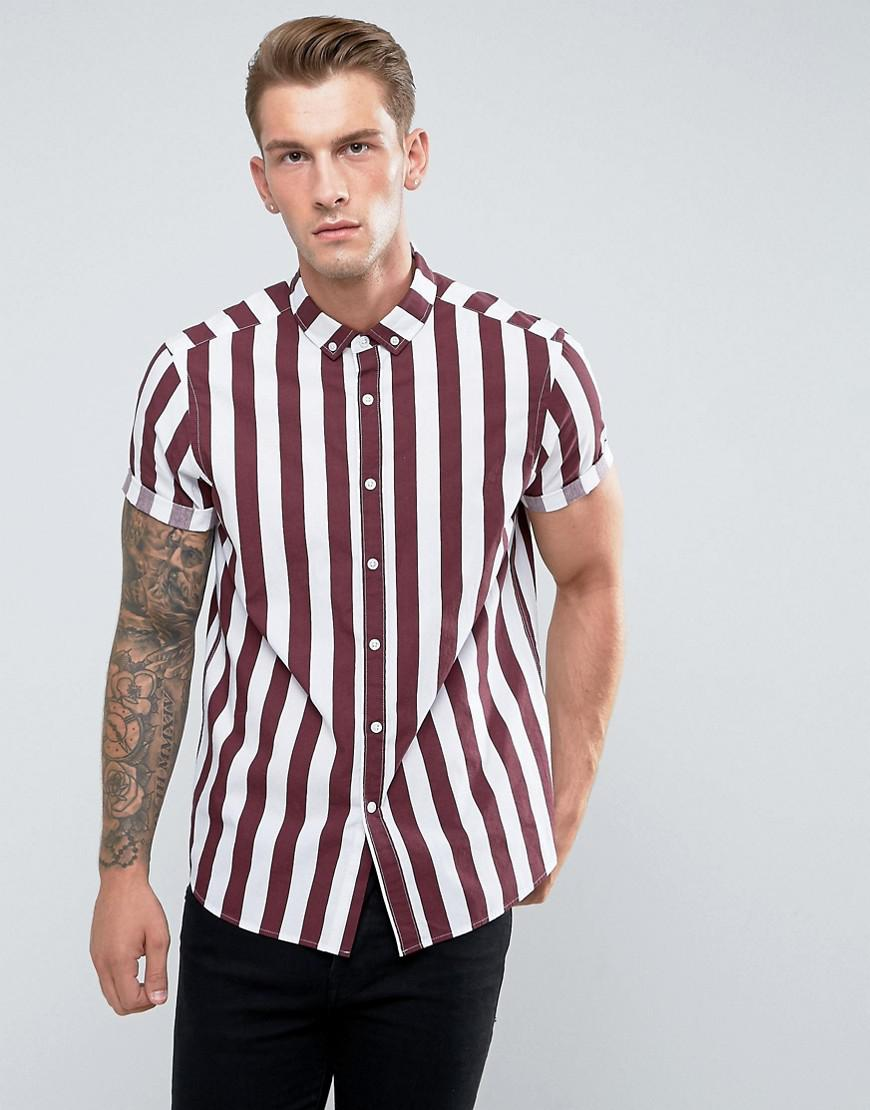teeshirt: (110, 262, 569, 934)
